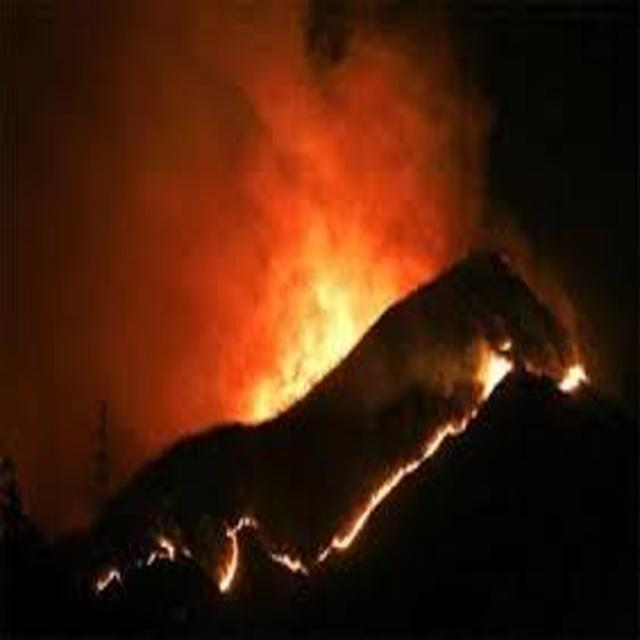Fire: (326, 341, 510, 569), (235, 218, 420, 427), (90, 510, 321, 606), (535, 337, 603, 414)
Smoke: (0, 0, 327, 216), (0, 216, 232, 498), (334, 1, 504, 219)
